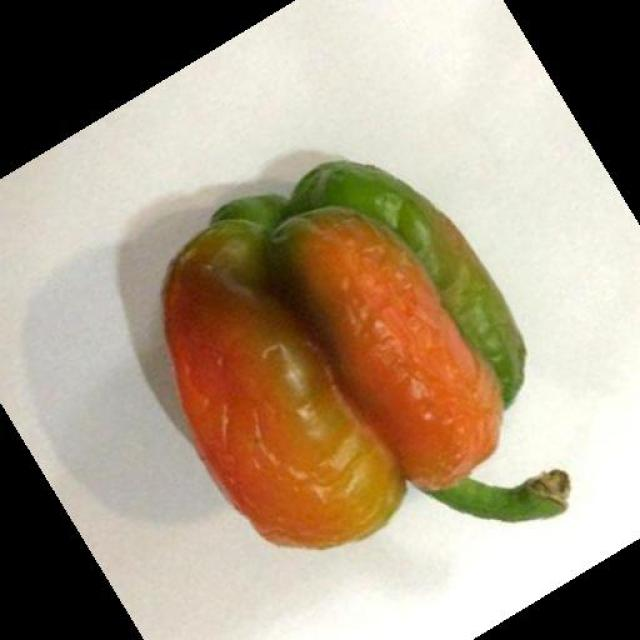Stale_Capsicum: (143, 164, 543, 536)
